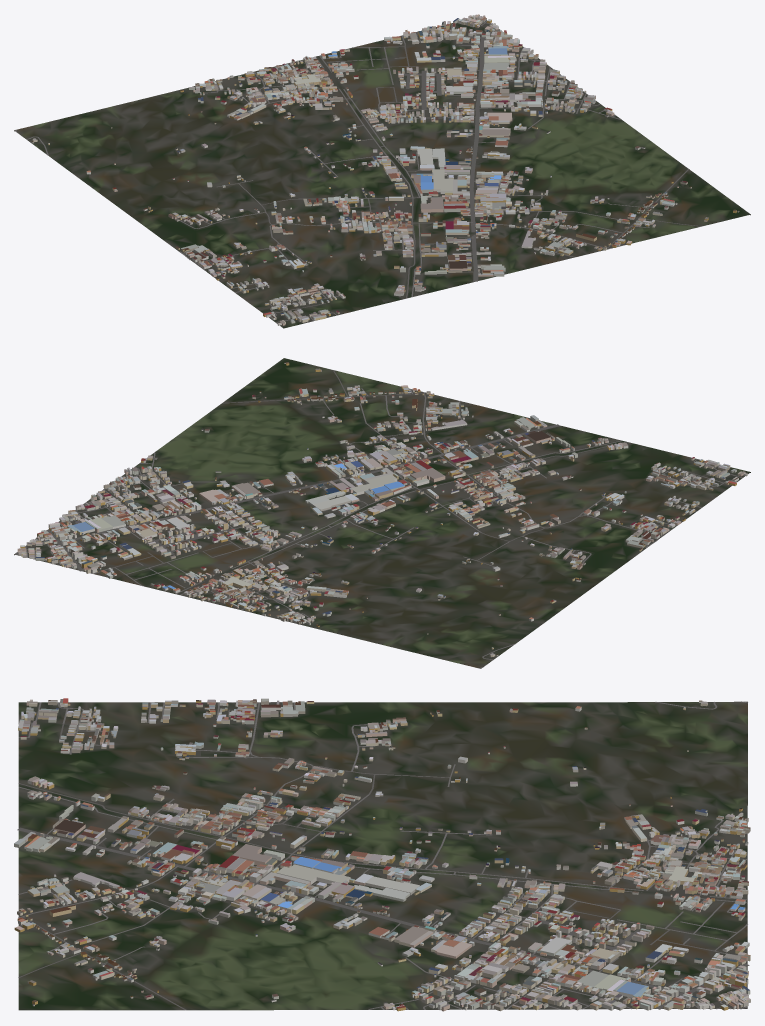
3 renders of one model, top to bottom at view 1: azimuth 30°, elevation 25°; view 2: azimuth 150°, elevation 25°; view 3: azimuth 270°, elevation 25°, orthographic. The views are drawn at different scales.
Parts seen in each view (by area): view 1: ground, buildings, roads; view 2: ground, buildings, roads; view 3: ground, buildings, roads.
Boxes of the visible parts, left/top/right/bottom form: ground: left=14, top=16, right=750, bottom=328; buildings: left=31, top=14, right=739, bottom=325; roads: left=15, top=20, right=701, bottom=322; ground: left=14, top=358, right=750, bottom=668; buildings: left=17, top=362, right=747, bottom=656; roads: left=16, top=370, right=742, bottom=668; ground: left=18, top=701, right=747, bottom=1010; buildings: left=14, top=698, right=750, bottom=1011; roads: left=17, top=701, right=749, bottom=1010.
Bounding box in the file's own units: 1414 × 22.69 × 1416.
